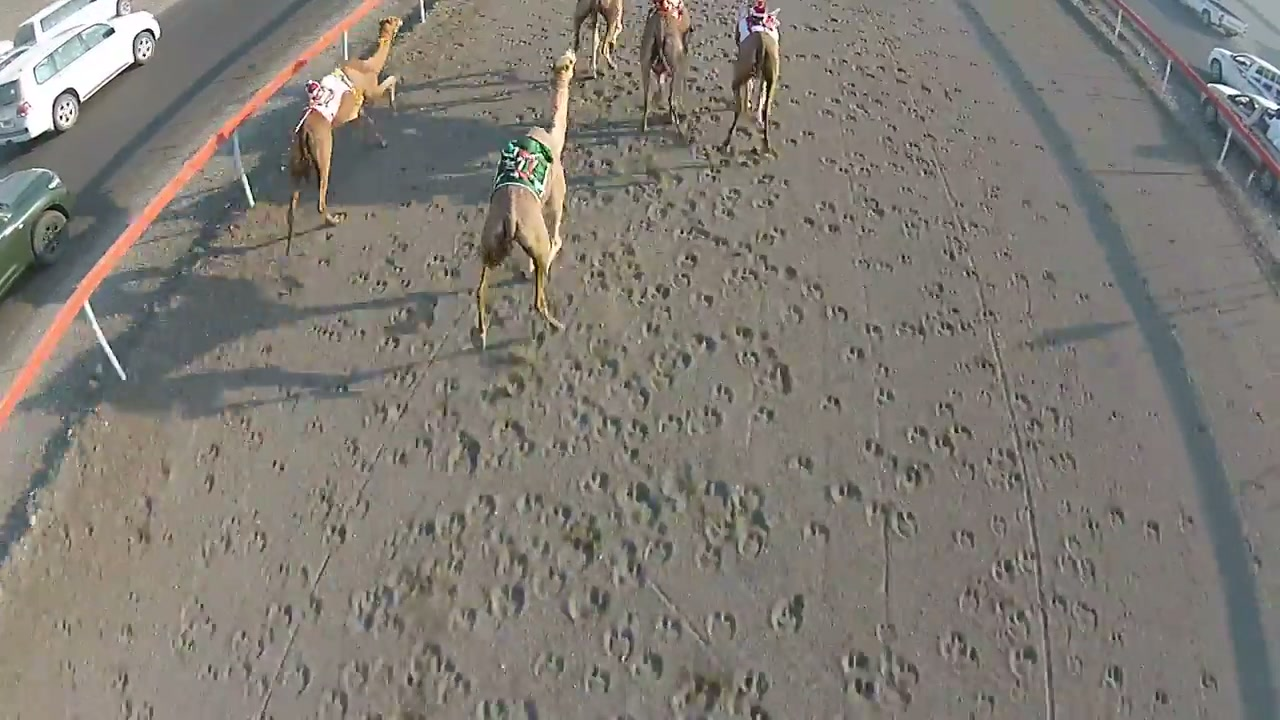animal_footprint: (0, 0, 1272, 717)
